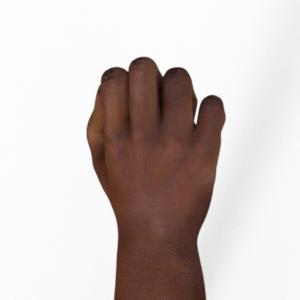rock: (87, 57, 225, 300)
